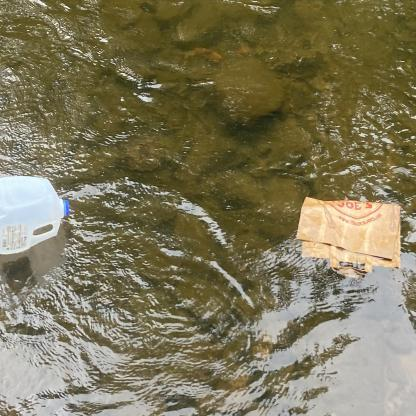trash: (294, 192, 406, 284), (0, 170, 74, 264)
